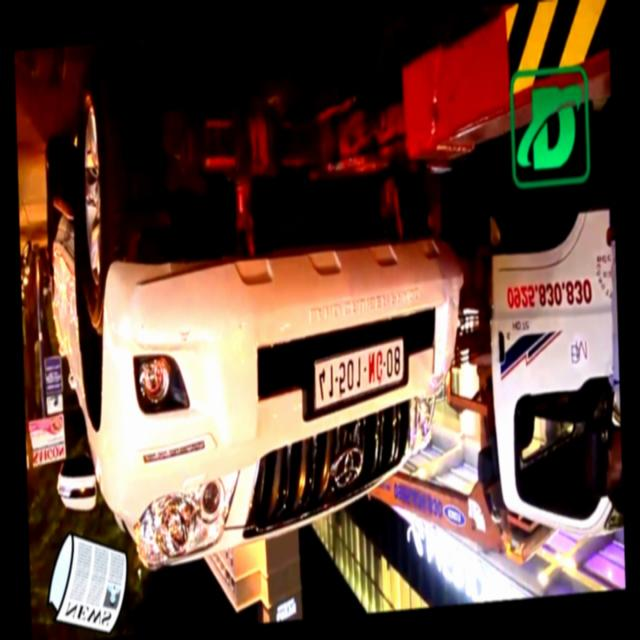bien_ngoai_giao: (312, 335, 408, 406)
